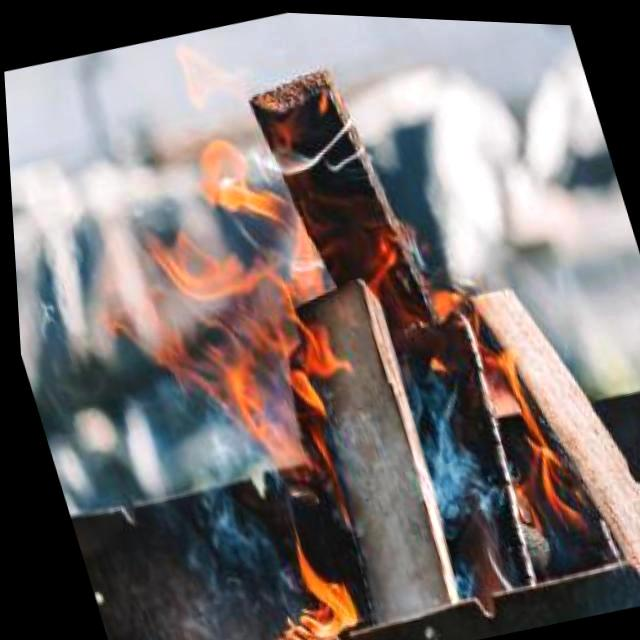fire: (66, 67, 610, 640)
